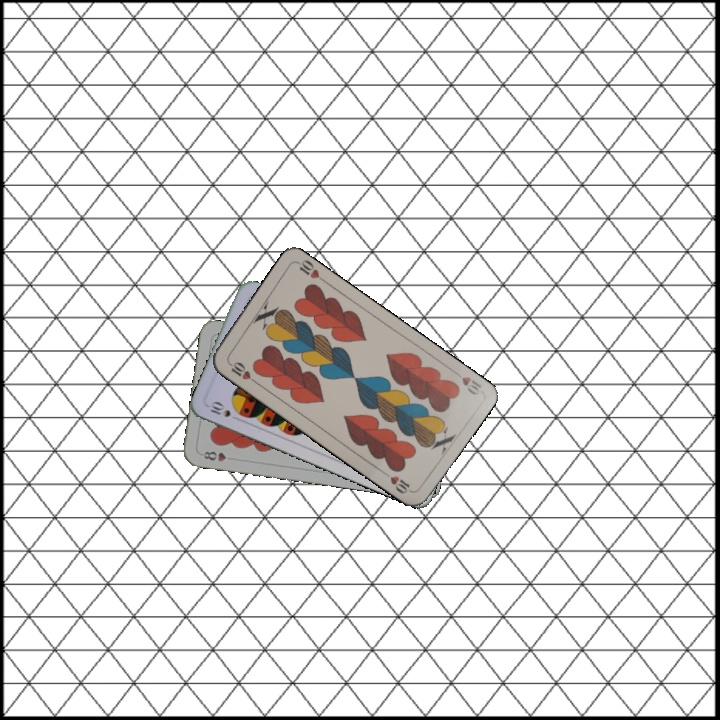H10: (449, 366, 484, 398), (224, 357, 260, 386)
H8: (199, 447, 237, 464)
S10: (204, 398, 233, 420)
